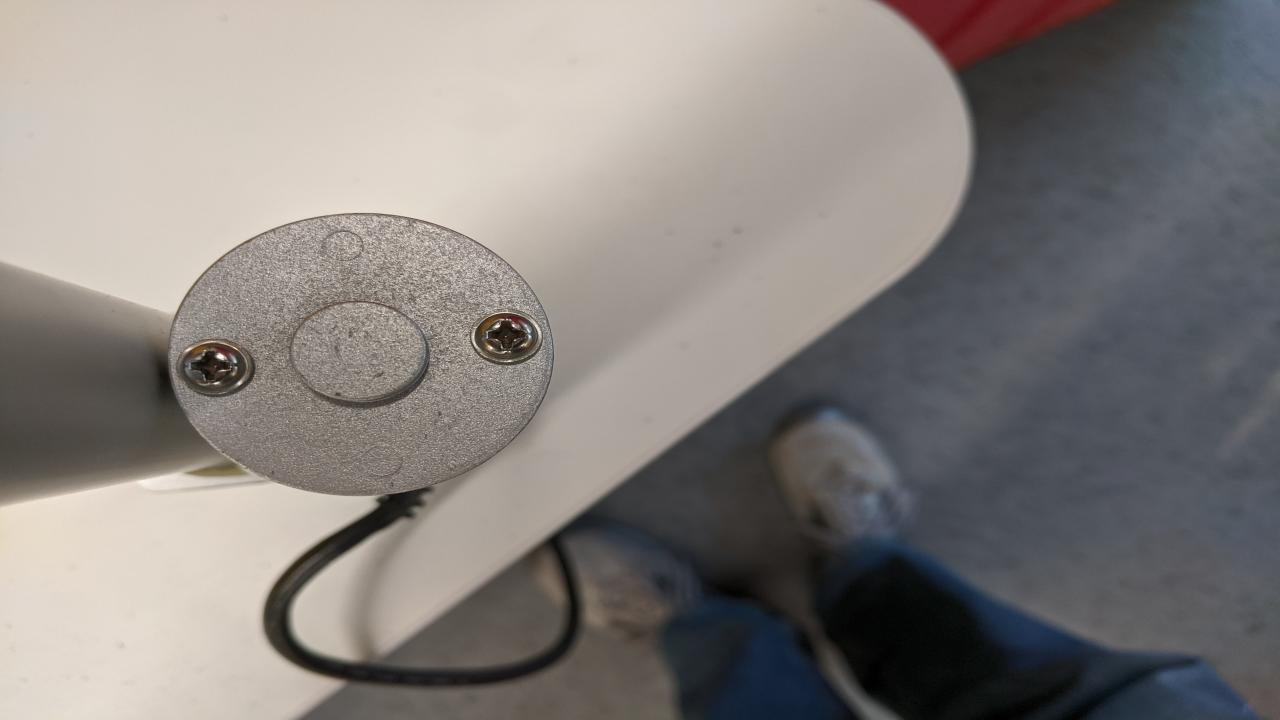CRS: (179, 341, 247, 395), (472, 313, 538, 363)
